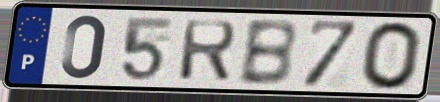0: (59, 13, 109, 82)
5: (121, 15, 177, 83)
7: (302, 18, 362, 90)
B: (235, 17, 300, 89)
O: (359, 19, 425, 93)
R: (176, 18, 240, 84)
